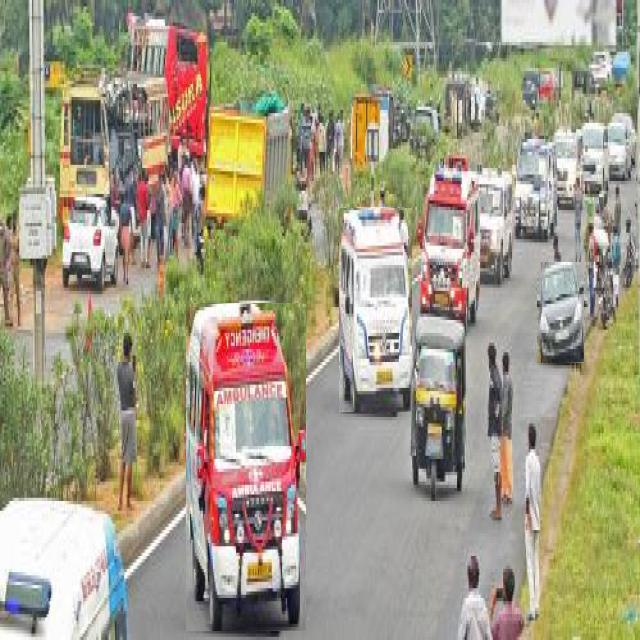autorickshaw: (411, 316, 465, 497)
car: (62, 199, 118, 290), (538, 262, 584, 363)
emergency: (186, 303, 306, 631), (339, 208, 412, 412), (420, 158, 479, 327)
